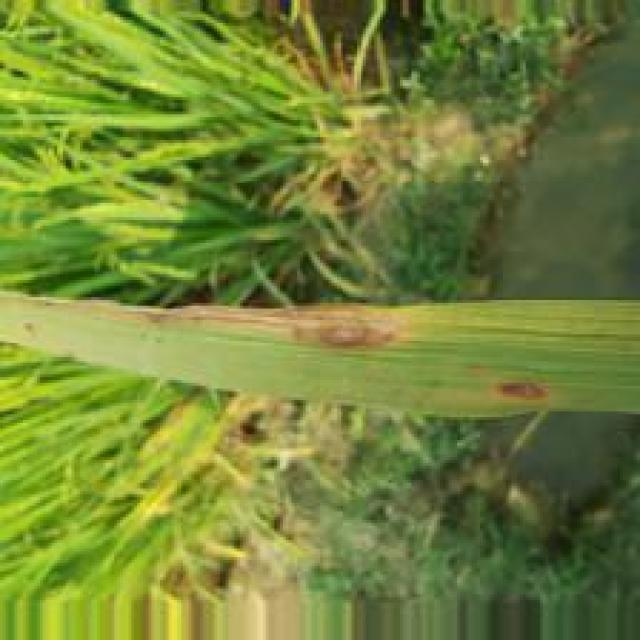Leaf_Blast: (113, 304, 427, 352)
